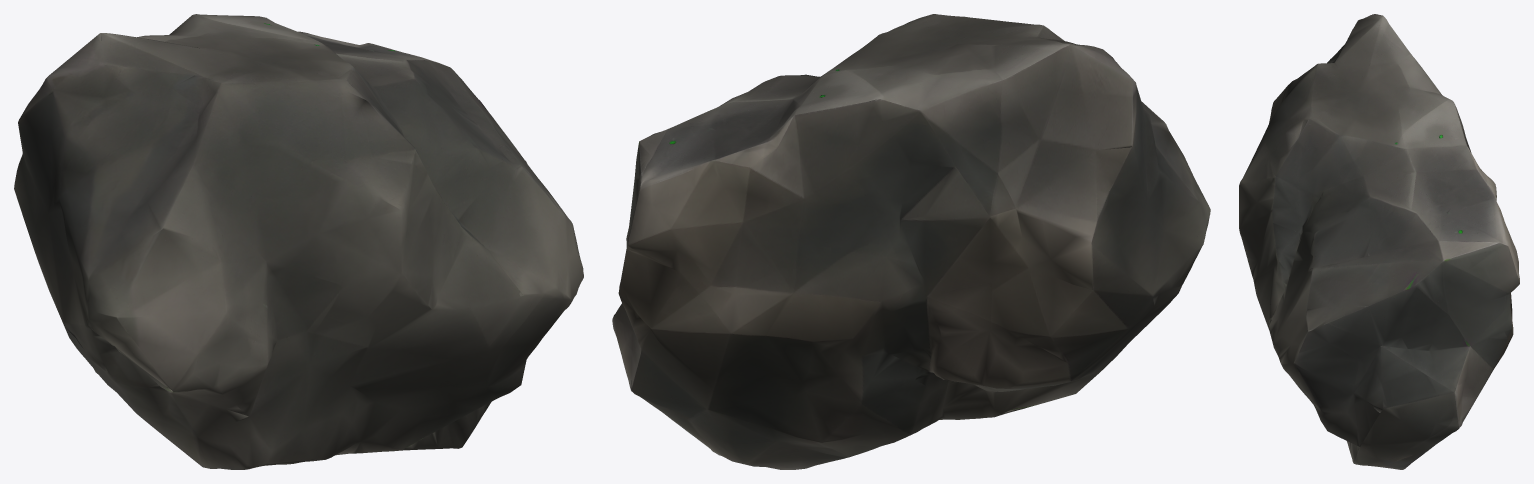
File: 05_split_fragment_upper.fbx
3 views of the same model, side by side, from view 1: azimuth 30°, elevation 25°; view 2: azimuth 150°, elevation 25°; view 3: azimuth 270°, elevation 25° (orthographic). The views are drawn at different scales.
Visible parts, largest first — view 1: 05_split_fragment_upper; view 2: 05_split_fragment_upper; view 3: 05_split_fragment_upper.
Boxes of the visible parts, x1,y1,x2,y2 form: 05_split_fragment_upper: (14,14,583,469); 05_split_fragment_upper: (612,14,1210,469); 05_split_fragment_upper: (1239,14,1519,469).
Size of the model in its own units: 0.7 by 0.6631 by 0.4991.
1 material, 1 textured.
